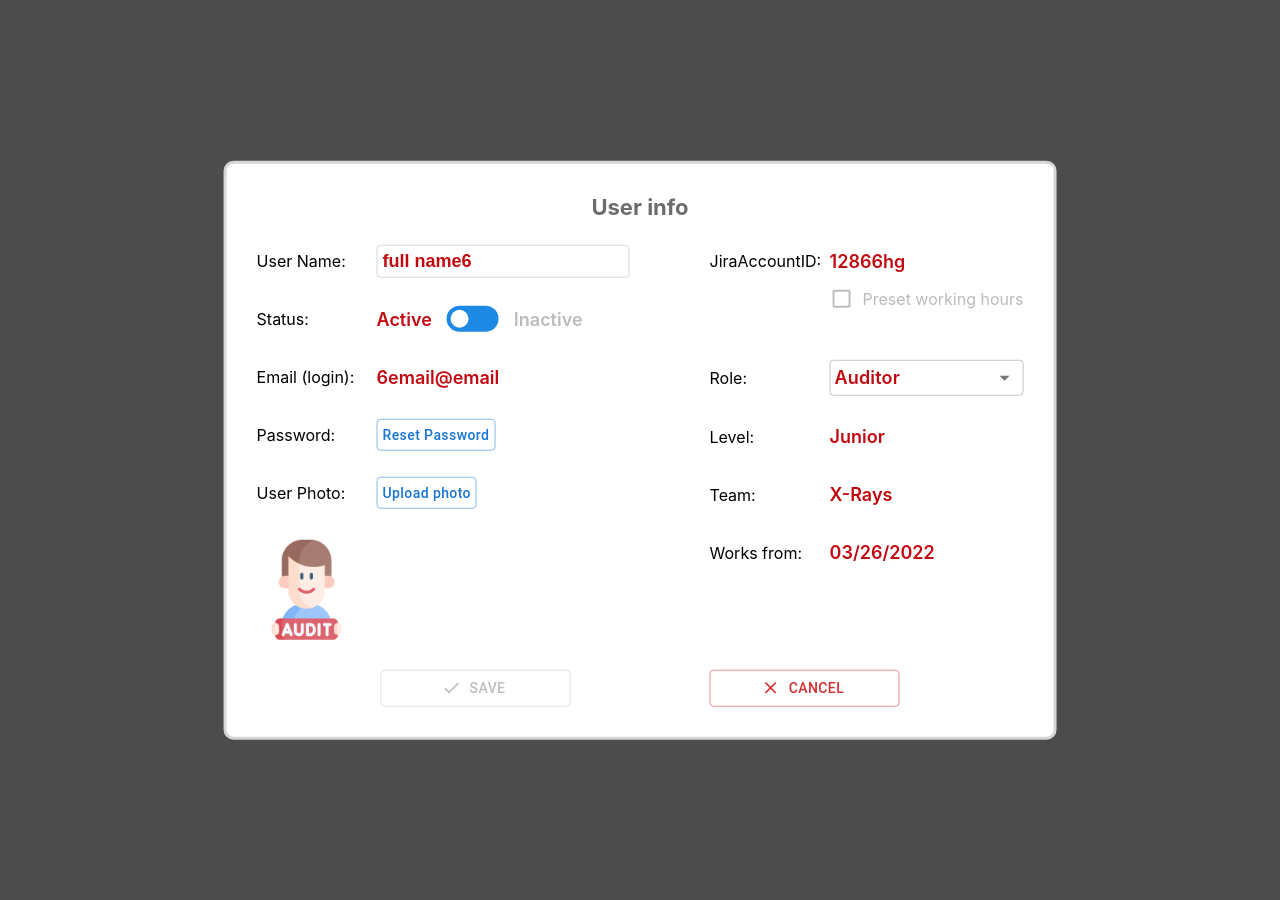
Test case: UserInfoModalContainer editable test › UserInfoModalContainer reset password
Click the button "Reset Password" at (436, 435), box [377, 418, 495, 451]
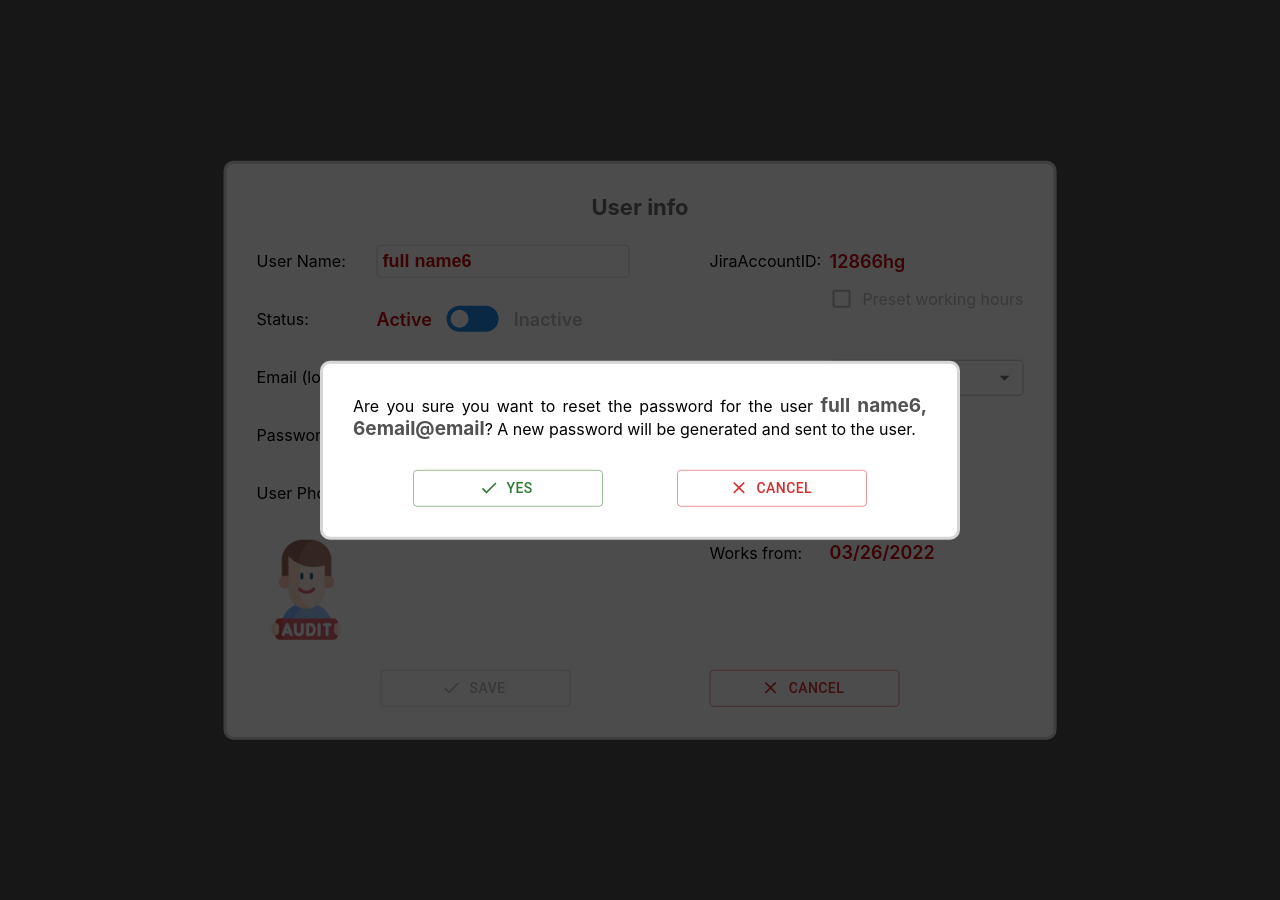
Result: the number of buttons "Cancel" is 2
Click the button "Cancel" at (772, 488), box [677, 470, 867, 506]
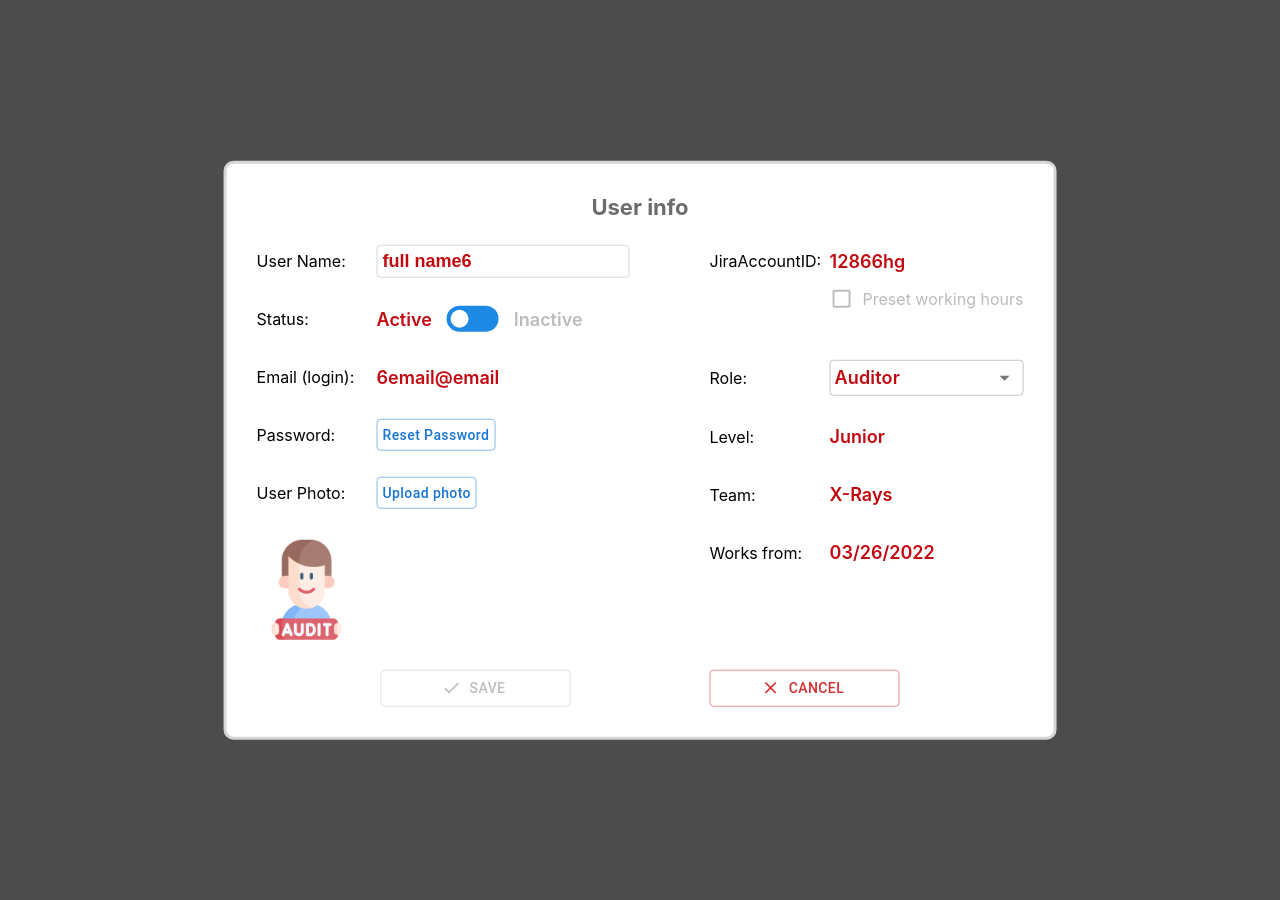
Click the button "Reset Password" at (436, 435), box [377, 418, 495, 451]
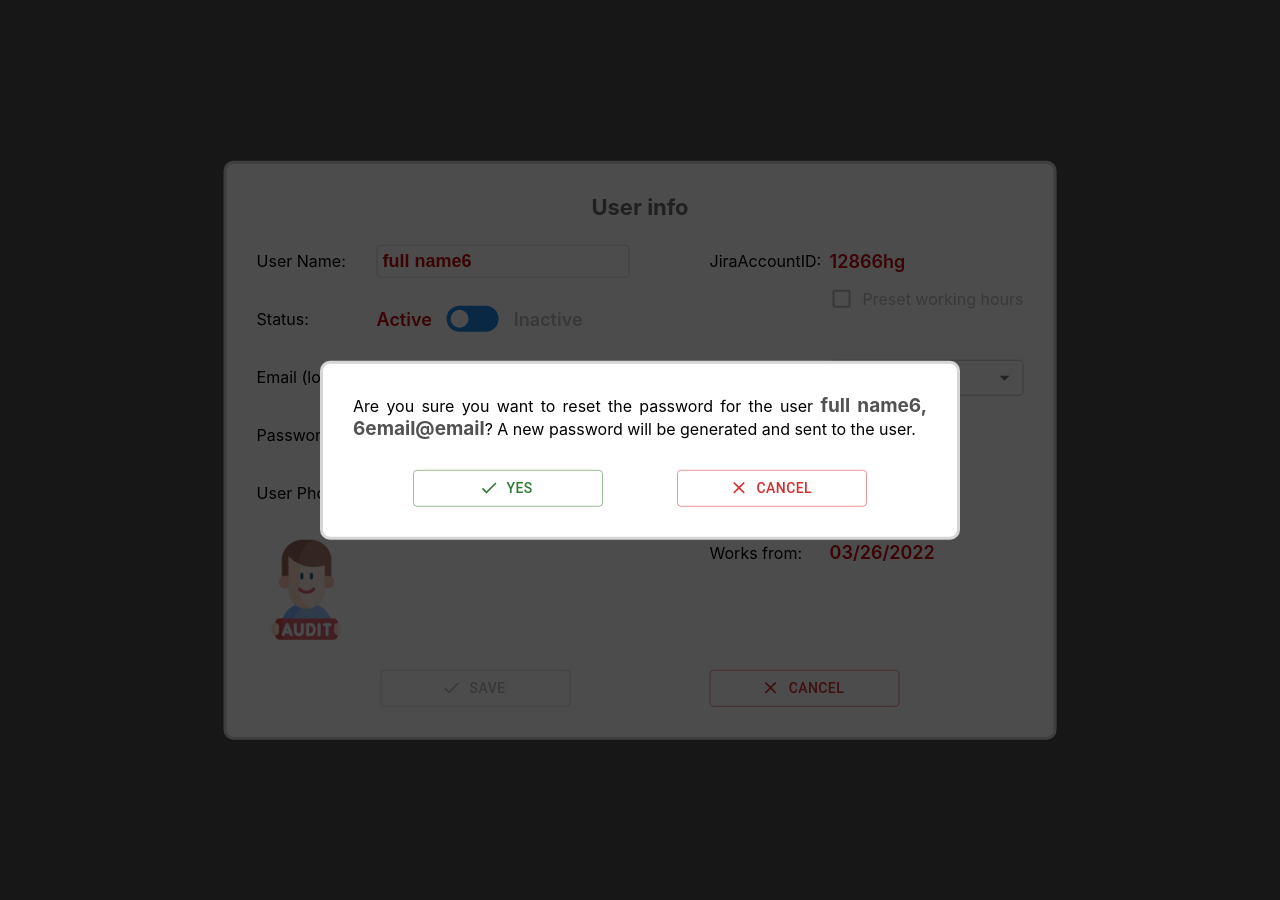
Click the button "Yes" at (508, 488), box [413, 470, 603, 506]
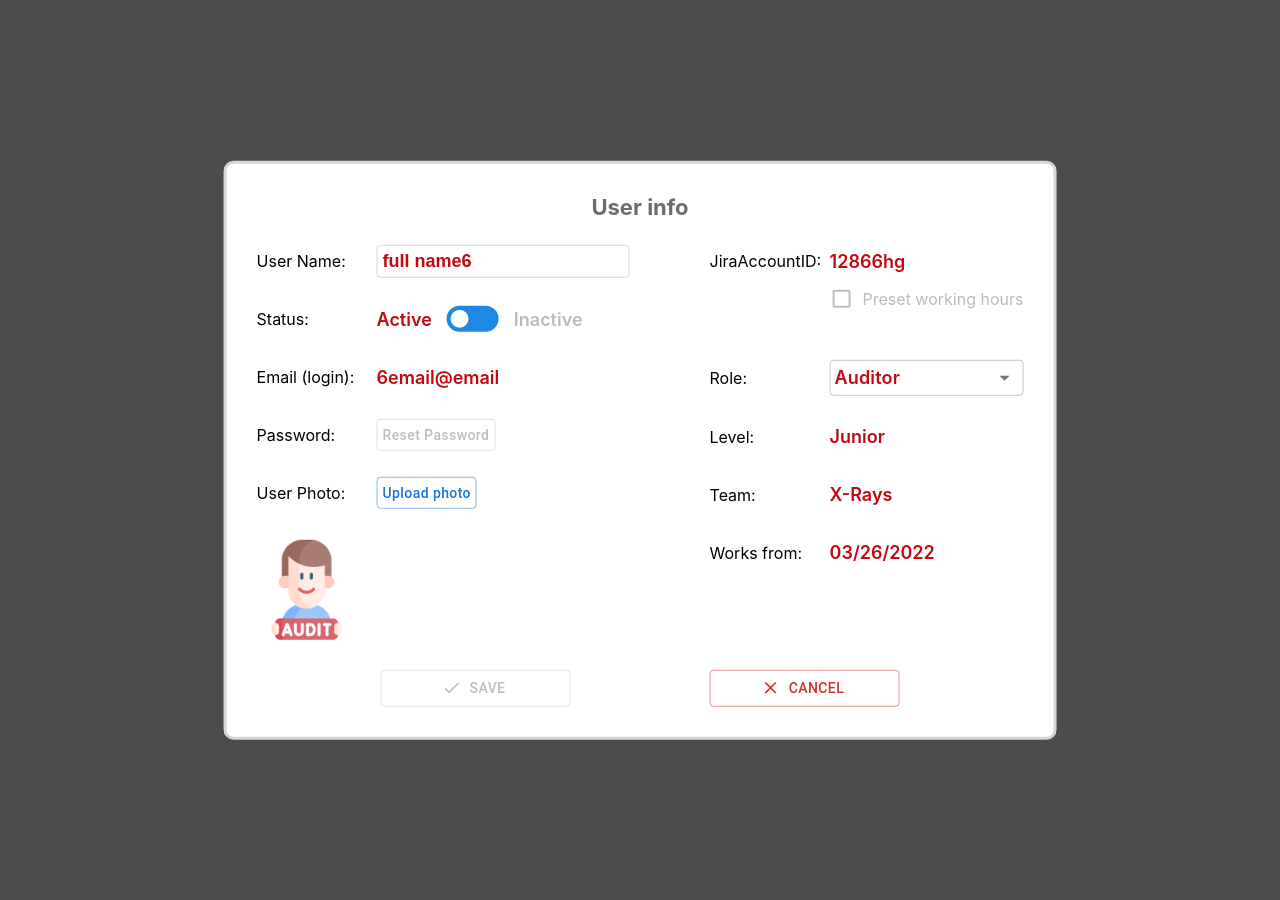
Result: the button "Reset Password" is disabled at [377, 418, 495, 451]
